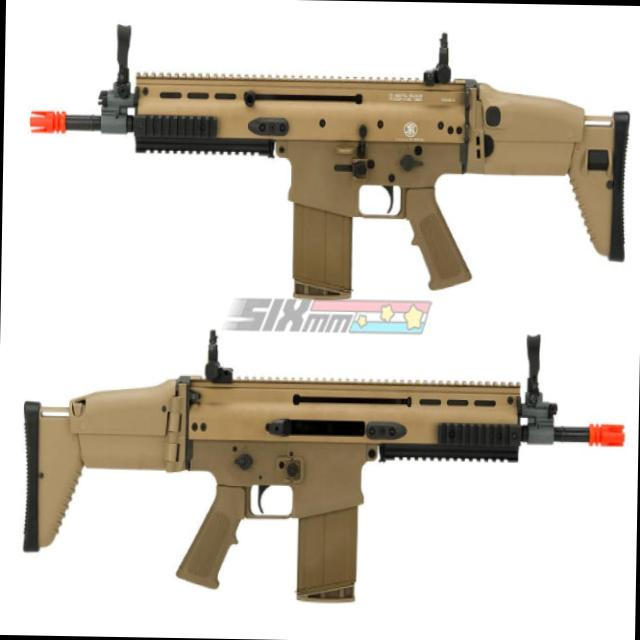Gun: (2, 6, 636, 340), (0, 323, 629, 640)
